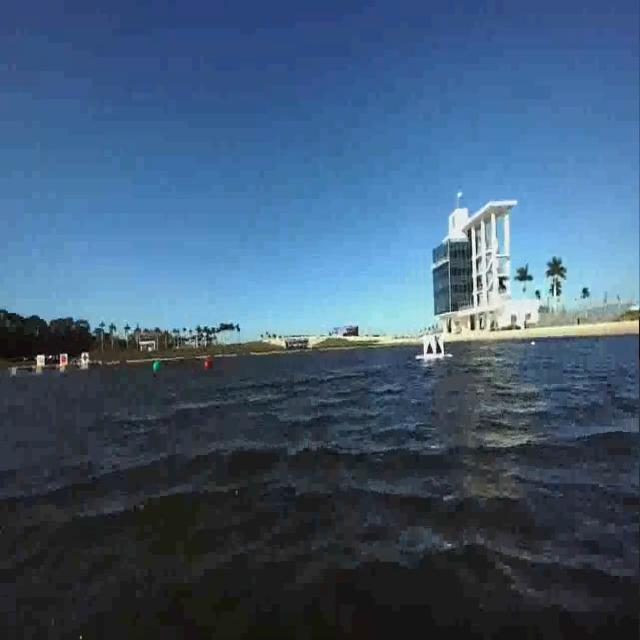green-buoy: (151, 351, 165, 375)
red-buoy: (199, 350, 219, 374)
